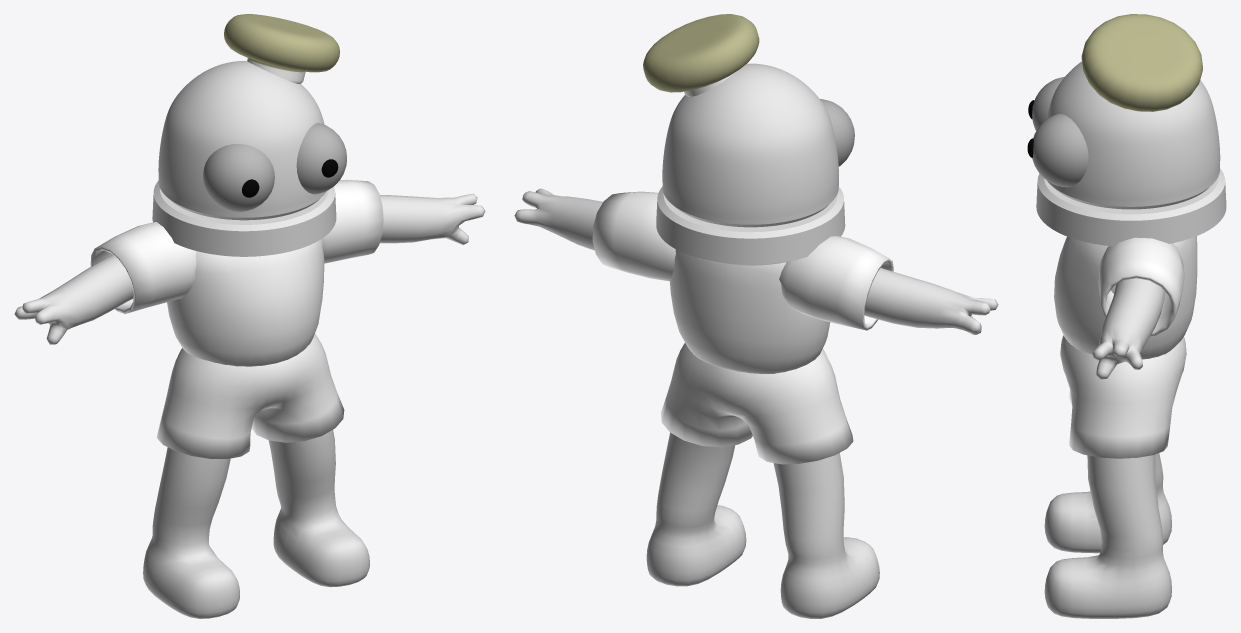
File: (dontuse)reakcharacterold.fbx
The picture shows the model from 3 angles, left to right: view 1: azimuth 30°, elevation 25°; view 2: azimuth 150°, elevation 25°; view 3: azimuth 270°, elevation 25°; orthographic projection. The views are drawn at different scales.
Parts seen in each view (by area): view 1: CLOTHES.001, BODY.001, Голова.001, Шея.001, HAT.001, Глаз Л.001, Глаз П.001; view 2: CLOTHES.001, BODY.001, Голова.001, Шея.001, HAT.001, Глаз Л.001; view 3: CLOTHES.001, BODY.001, Голова.001, HAT.001, Шея.001, Глаз П.001, Глаз Л.001.
Boxes of the visible parts, x1,y1,x2,y2 form: CLOTHES.001: (90, 179, 383, 458); BODY.001: (14, 193, 485, 618); Голова.001: (158, 61, 326, 220); Шея.001: (152, 180, 336, 256); HAT.001: (224, 14, 339, 83); Глаз Л.001: (203, 144, 274, 211); Глаз П.001: (296, 123, 346, 194); CLOTHES.001: (592, 191, 893, 464); BODY.001: (514, 188, 998, 618); Голова.001: (662, 63, 838, 227); Шея.001: (656, 186, 845, 265); HAT.001: (643, 14, 759, 96); Глаз Л.001: (820, 99, 854, 166); CLOTHES.001: (1054, 236, 1197, 458); BODY.001: (1044, 278, 1171, 618); Голова.001: (1047, 61, 1220, 209); HAT.001: (1081, 14, 1202, 111); Шея.001: (1036, 168, 1226, 246); Глаз П.001: (1032, 114, 1088, 187); Глаз Л.001: (1032, 76, 1064, 130).
Bounding box in the file's own units: 387 × 446 × 142.
